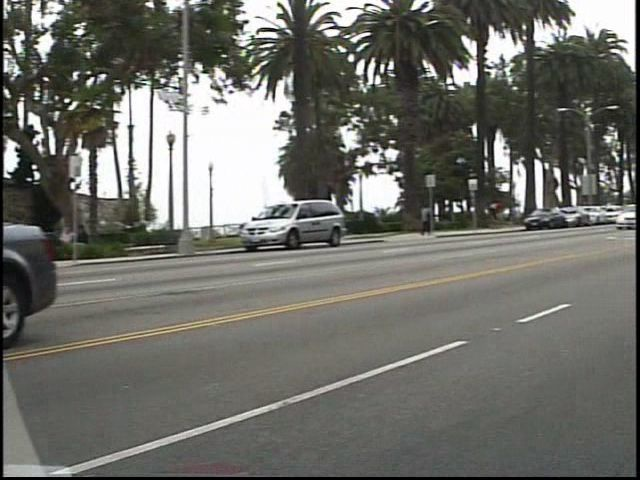person: (428, 201, 449, 241), (498, 197, 518, 232)
